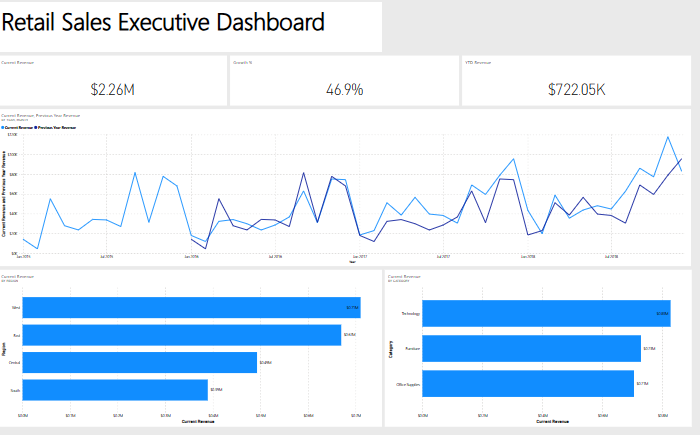

Layout of this report page (visuals, bound fields, positions):
{"tool":"powerbi","page":{"name":"Overview","canvas":[1280,720],"ordinal":0},"visuals":[{"type":"card","fields":{"Values":["Orders.Total Revenue"]},"box":[22,84,250,92],"z":0},{"type":"card","fields":{"Values":["Orders.YTD Revenue"]},"box":[342,84,250,92],"z":1000},{"type":"card","fields":{"Values":["Orders.Growth %"]},"box":[670,84,250,92],"z":2000},{"type":"card","fields":{"Values":["Orders.Total Orders"]},"box":[1002,84,250,92],"z":3000},{"type":"lineChart","fields":{"Y":["Orders.Total Revenue","Orders.Sales Last Year"],"Category":["Date Table.Date.Variation.Date Hierarchy.Year","Date Table.Date.Variation.Date Hierarchy.Month"]},"box":[22.5,196.6,996.3,264.1],"z":4000},{"type":"clusteredBarChart","fields":{"Category":["Orders.Category"],"Y":["Orders.Total Revenue"]},"box":[556.2,483.2,462.6,211.6],"z":5000},{"type":"clusteredBarChart","fields":{"Category":["Orders.Region"],"Y":["Orders.Total Revenue"]},"box":[22.5,483.2,498.2,211.6],"z":6000},{"type":"slicer","fields":{"Values":["Date Table.Year","Date Table.Year"]},"box":[1058.1,211.6,192.9,74.9],"z":7000},{"type":"slicer","fields":{"Values":["Orders.Region","Orders.Region"]},"box":[1058.1,314.6,192.9,93.6],"z":8000},{"type":"slicer","fields":{"Values":["Orders.Segment"]},"box":[1058.1,445.7,192.9,76.8],"z":9000},{"type":"slicer","fields":{"Values":["Orders.Category"]},"box":[1058.1,543.1,192.9,78.7],"z":10000},{"type":"actionButton","box":[1166.7,644.2,84.3,50.6],"z":11000},{"type":"actionButton","box":[1058.1,644.2,86.1,50.6],"z":12000},{"type":"textbox","box":[22,0,296,62],"z":14000}]}

Visuals, with their boxes on the page's 1280x720 design canvas (x1, y1, x2, y2). These are canvas units, not pixel positions in the 700x435 screenshot, which may show the page scaled, cropped or inside an application window:
card - Orders.Total Revenue: crop(22, 84, 272, 176)
card - Orders.YTD Revenue: crop(342, 84, 592, 176)
card - Orders.Growth %: crop(670, 84, 920, 176)
card - Orders.Total Orders: crop(1002, 84, 1252, 176)
lineChart - Orders.Total Revenue x Orders.Sales Last Year: crop(22, 197, 1019, 461)
clusteredBarChart - Orders.Category x Orders.Total Revenue: crop(556, 483, 1019, 695)
clusteredBarChart - Orders.Region x Orders.Total Revenue: crop(22, 483, 521, 695)
slicer - Date Table.Year x Date Table.Year: crop(1058, 212, 1251, 286)
slicer - Orders.Region x Orders.Region: crop(1058, 315, 1251, 408)
slicer - Orders.Segment: crop(1058, 446, 1251, 522)
slicer - Orders.Category: crop(1058, 543, 1251, 622)
actionButton: crop(1167, 644, 1251, 695)
actionButton: crop(1058, 644, 1144, 695)
textbox: crop(22, 0, 318, 62)
